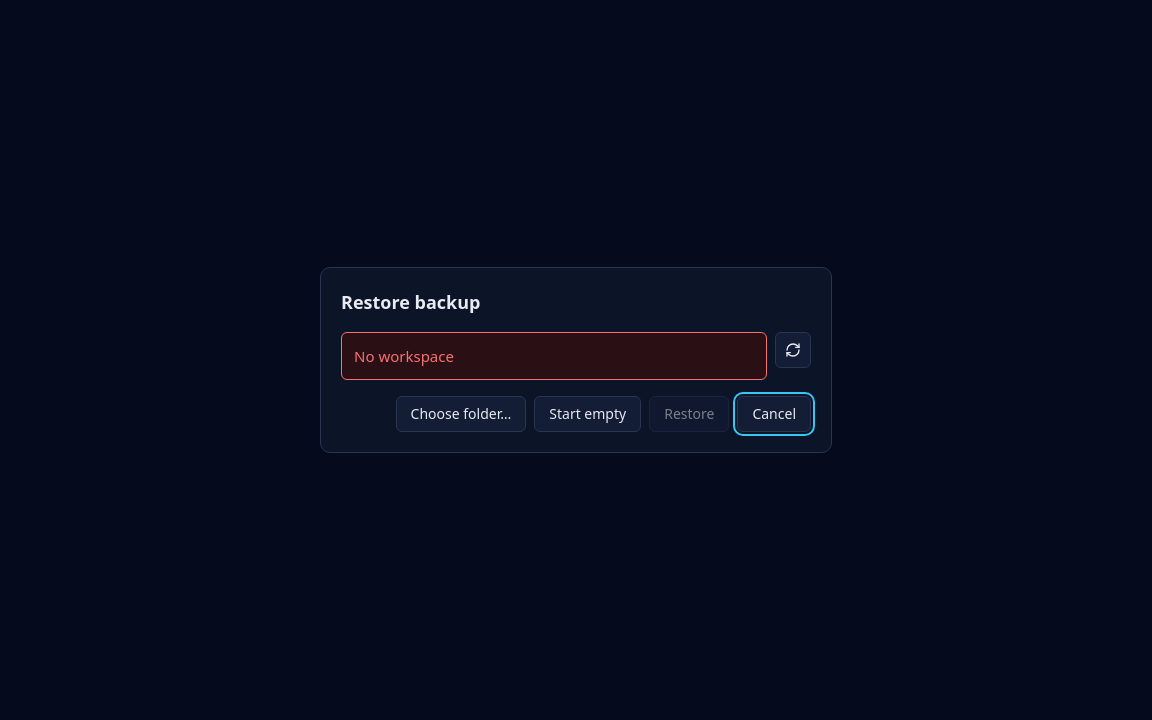
Test: a failed first listing shows its message with Retry, which lists again
Expected: the message reads "No workspace", [354,346,454,366]
Step 1. Click the button named "Retry" → (793, 350), box [775,332,811,368]
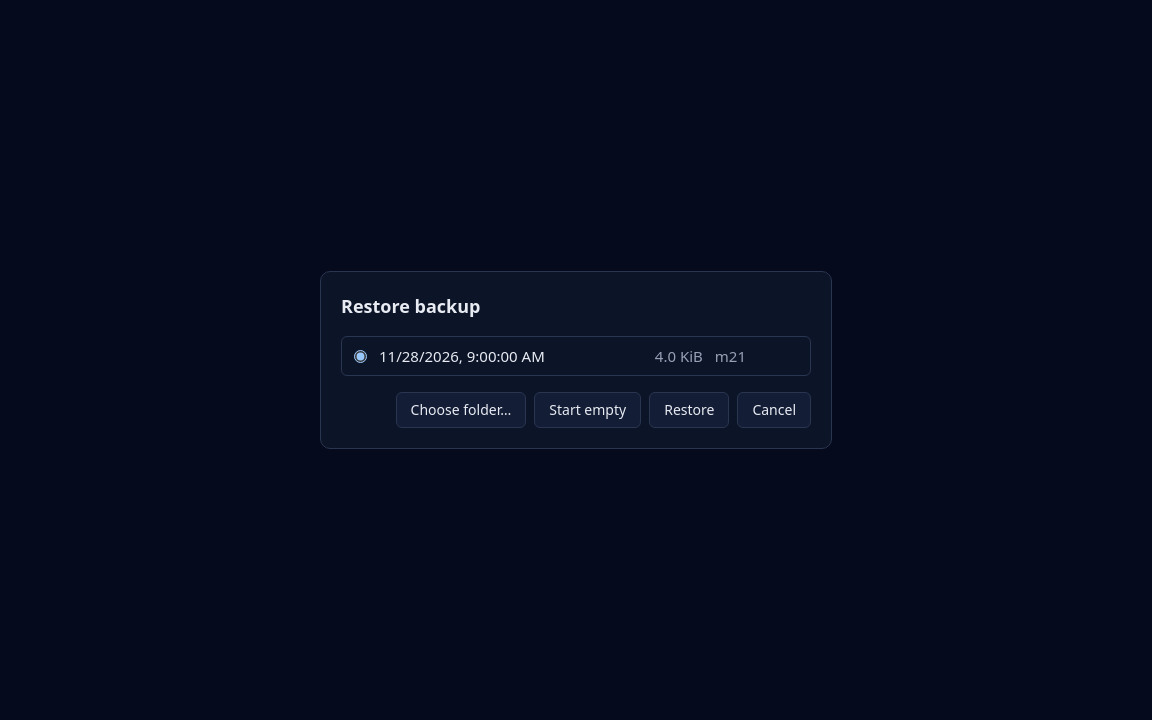
Expected: the number of radio buttons is 1, [354,350,367,362]
Expected: the message "No workspace" is gone
